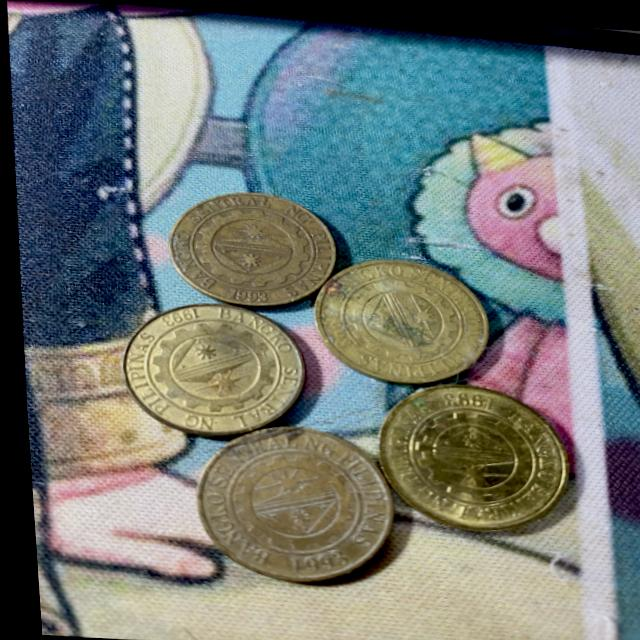25Cent_Old_Back: (185, 428, 398, 565), (372, 377, 559, 531), (313, 252, 486, 380), (110, 304, 294, 423), (164, 187, 326, 314)
